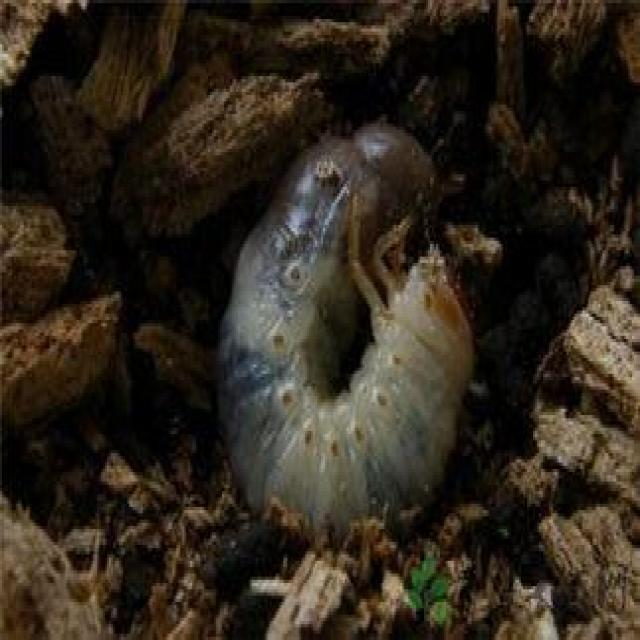Grub-Adult-: (207, 115, 474, 543)
